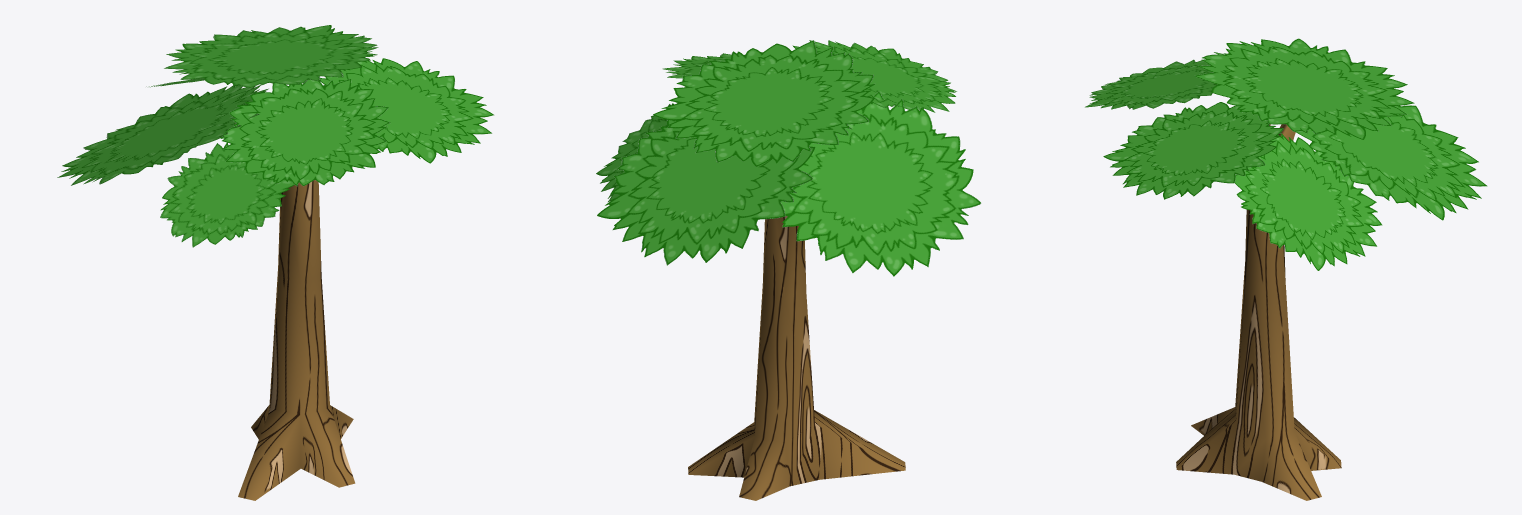
File: Happy_tree2.FBX
3 views of the same model, side by side, from view 1: azimuth 30°, elevation 25°; view 2: azimuth 150°, elevation 25°; view 3: azimuth 270°, elevation 25° (orthographic). The views are drawn at different scales.
Visible parts, largest first — view 1: tree, leaves010, leaves009, leaves006, leaves001, leaves005; view 2: leaves001, tree, leaves006, leaves007, leaves010, leaves008, leaves009; view 3: tree, leaves006, leaves008, leaves009, leaves007, leaves010.
Part boxes in pixels (x1,y1,x2,y2): tree: (235, 123, 355, 500); leaves010: (220, 79, 390, 186); leaves009: (320, 58, 494, 163); leaves006: (164, 25, 378, 87); leaves001: (57, 85, 268, 185); leaves005: (160, 142, 294, 247); leaves001: (781, 91, 981, 276); tree: (688, 216, 905, 500); leaves006: (653, 40, 874, 166); leaves007: (597, 120, 815, 265); leaves010: (792, 40, 957, 112); leaves008: (596, 103, 677, 201); leaves009: (662, 53, 745, 78); tree: (1176, 124, 1341, 500); leaves006: (1194, 38, 1414, 139); leaves008: (1234, 133, 1382, 270); leaves009: (1103, 102, 1283, 199); leaves007: (1295, 105, 1487, 220); leaves010: (1085, 59, 1217, 109).
Size of the model in its own units: 130 by 131 by 126.
Materials: 1 (1 with a texture image).
